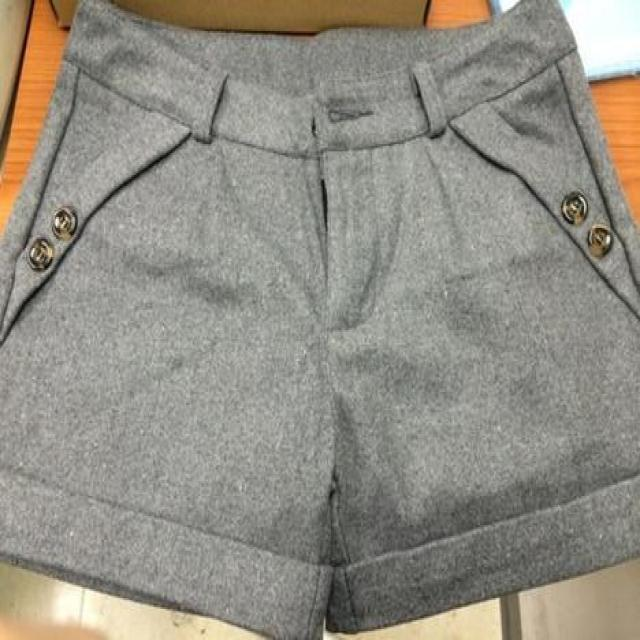shorts: (1, 2, 636, 635)
